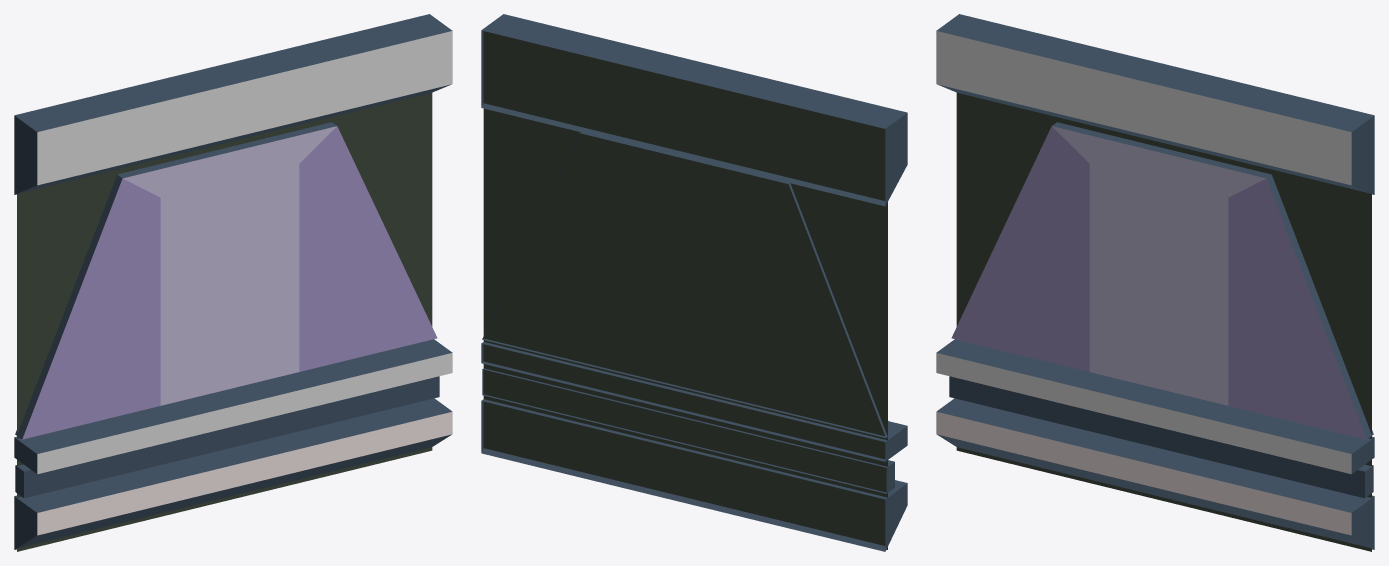
File: Environment_Wall_4.fbx
3 views of the same model, side by side, from view 1: azimuth 30°, elevation 25°; view 2: azimuth 150°, elevation 25°; view 3: azimuth 330°, elevation 25° (orthographic). The views are drawn at different scales.
Visible parts, largest first — view 1: Wall_4; view 2: Wall_4; view 3: Wall_4.
Boxes of the visible parts, x1,y1,x2,y2 form: Wall_4: (14, 14, 452, 551); Wall_4: (481, 14, 907, 551); Wall_4: (936, 14, 1374, 551).
Size of the model in its own units: 400 by 400 by 38.42.
